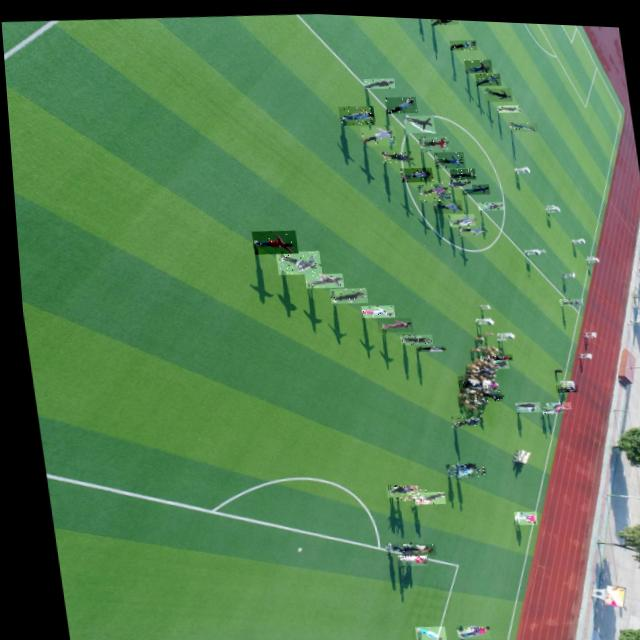Person: (270, 246, 317, 274), (247, 226, 293, 253), (334, 101, 372, 123), (357, 121, 393, 143), (299, 268, 339, 287), (413, 177, 447, 199), (324, 283, 363, 302), (401, 110, 433, 130), (382, 92, 415, 111), (371, 313, 407, 330), (430, 146, 462, 165), (396, 163, 430, 180), (404, 621, 436, 639), (444, 620, 480, 636), (415, 131, 447, 149), (446, 457, 479, 474), (387, 545, 418, 563), (375, 538, 411, 553), (355, 300, 390, 315), (383, 484, 420, 498), (377, 480, 411, 495), (403, 487, 437, 502), (436, 457, 470, 472), (430, 174, 469, 187), (428, 195, 459, 211), (462, 52, 491, 69), (393, 539, 427, 553), (481, 82, 510, 98), (443, 410, 476, 424), (378, 146, 411, 160), (444, 208, 472, 224), (393, 329, 427, 342), (361, 73, 393, 86), (472, 67, 499, 82), (457, 178, 487, 191), (450, 369, 476, 384), (466, 385, 496, 398), (504, 505, 528, 521), (447, 34, 476, 47), (453, 220, 482, 233), (446, 163, 472, 177), (508, 395, 534, 408), (506, 116, 535, 127), (460, 374, 490, 384), (473, 196, 500, 207), (553, 290, 578, 301), (548, 377, 571, 388), (539, 396, 565, 405), (534, 401, 559, 410), (411, 341, 439, 349), (495, 99, 517, 109), (483, 354, 503, 365), (481, 349, 506, 357), (479, 375, 494, 387), (428, 15, 457, 21)
